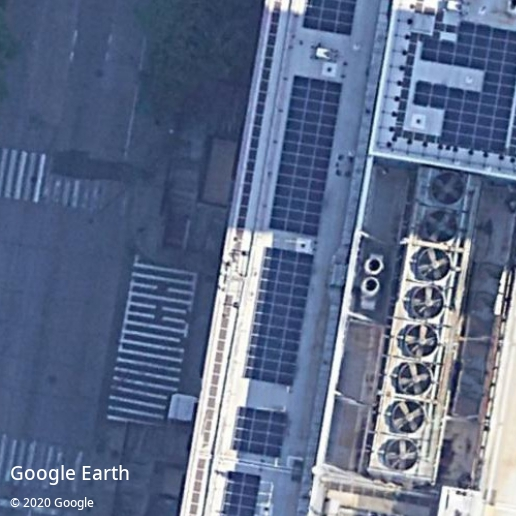Vent: (397, 363, 432, 396), (424, 211, 457, 243), (418, 248, 450, 281), (412, 286, 444, 319), (432, 172, 464, 204), (406, 325, 438, 357), (386, 438, 418, 470), (392, 402, 424, 433)
